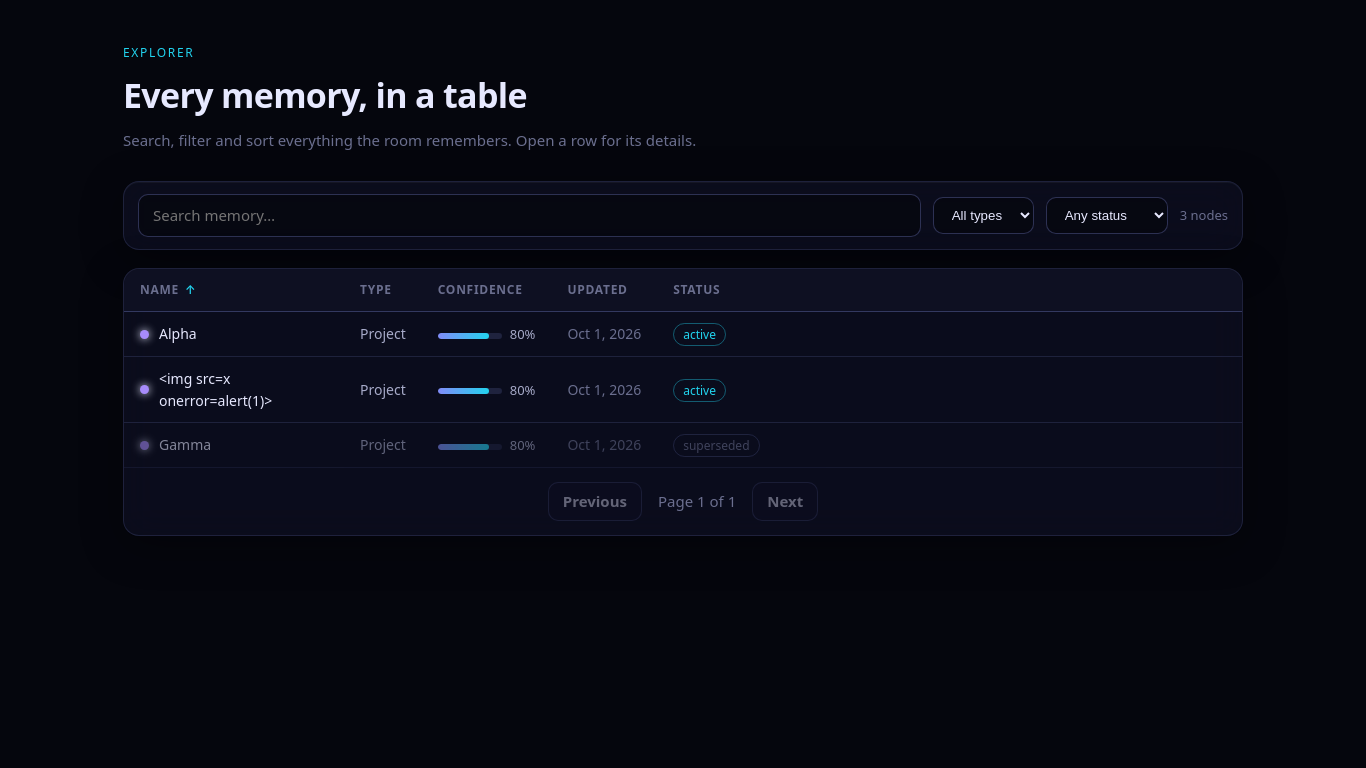
Test case: ExplorerPage › opens the drawer when a row is clicked
Click the row "Alpha project 80% Oct 1, 2026 active". click: (683, 335)
box: [124,312,1242,357]
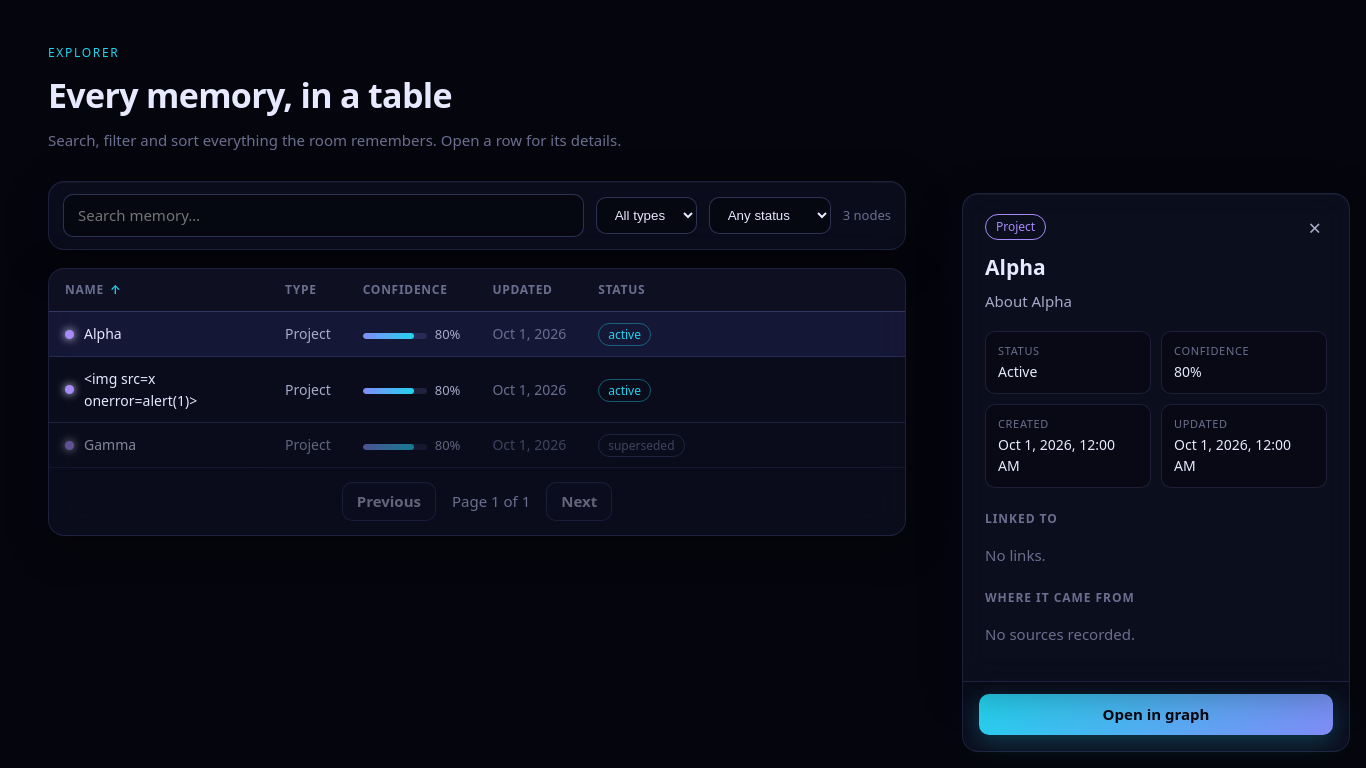
Result: the heading "Alpha" is shown at [985,253,1046,281]
